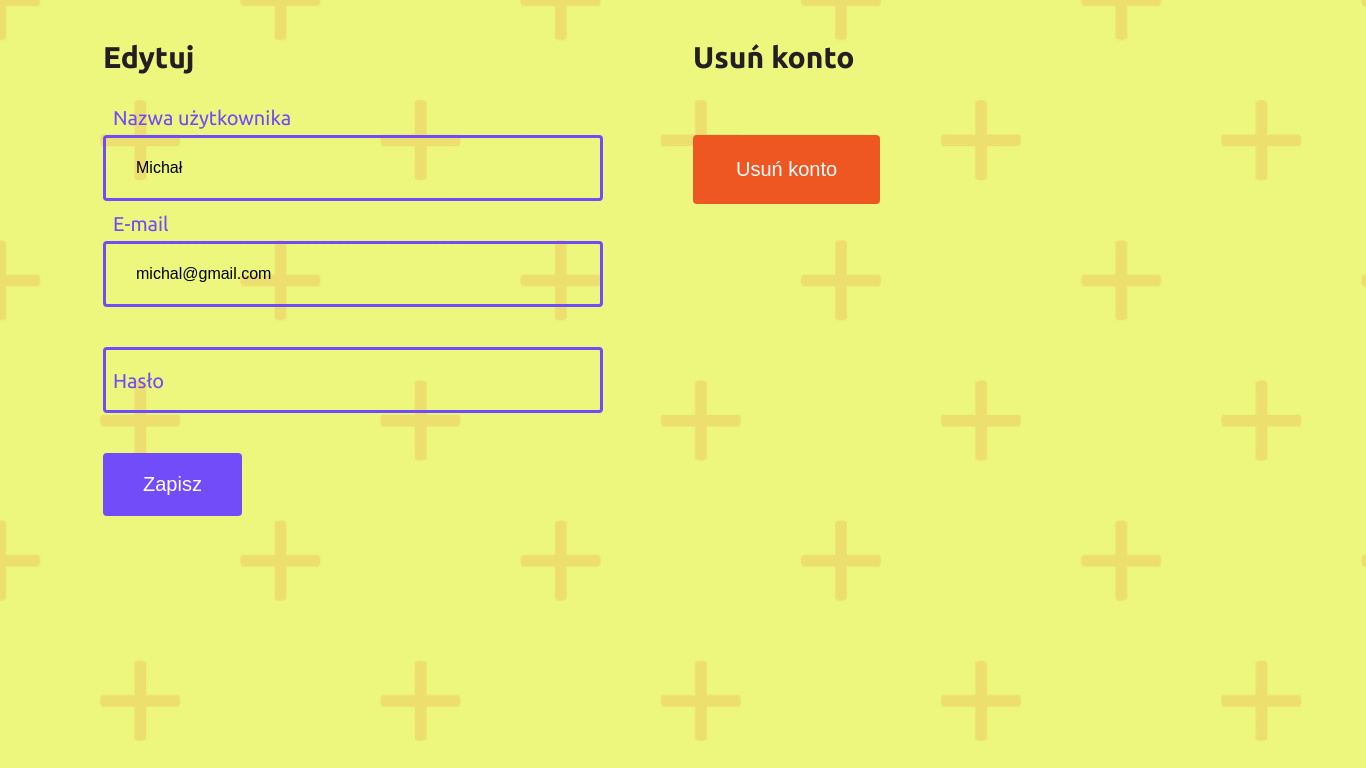
Test case: Settings page › should display errors if input values are either null or invalid
This screenshot has width=1366, height=768.
Replace the text in the field named "nickname" with "Mi" at point(353, 168), box x1=103 y1=135 x2=603 y2=201
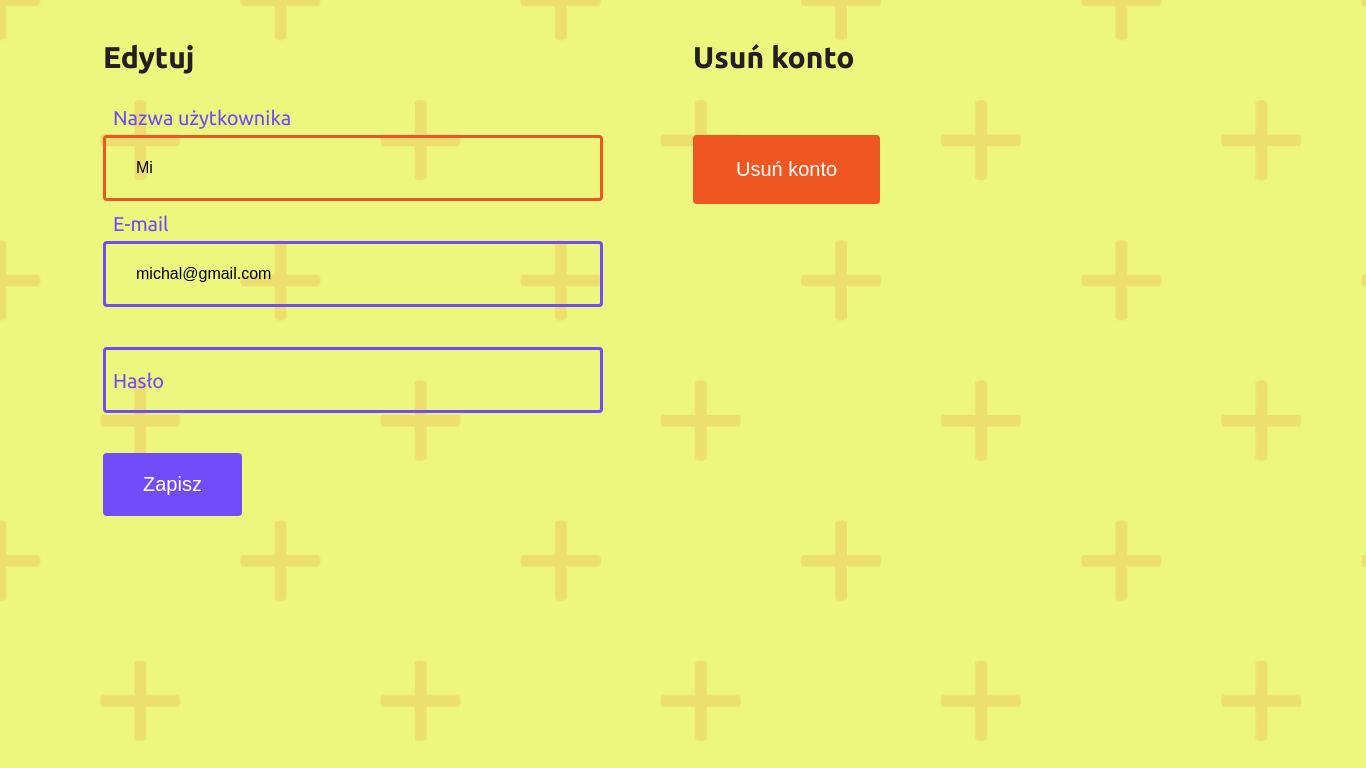
Replace the text in the field named "email" with "michal" at point(353, 274), box x1=103 y1=241 x2=603 y2=307
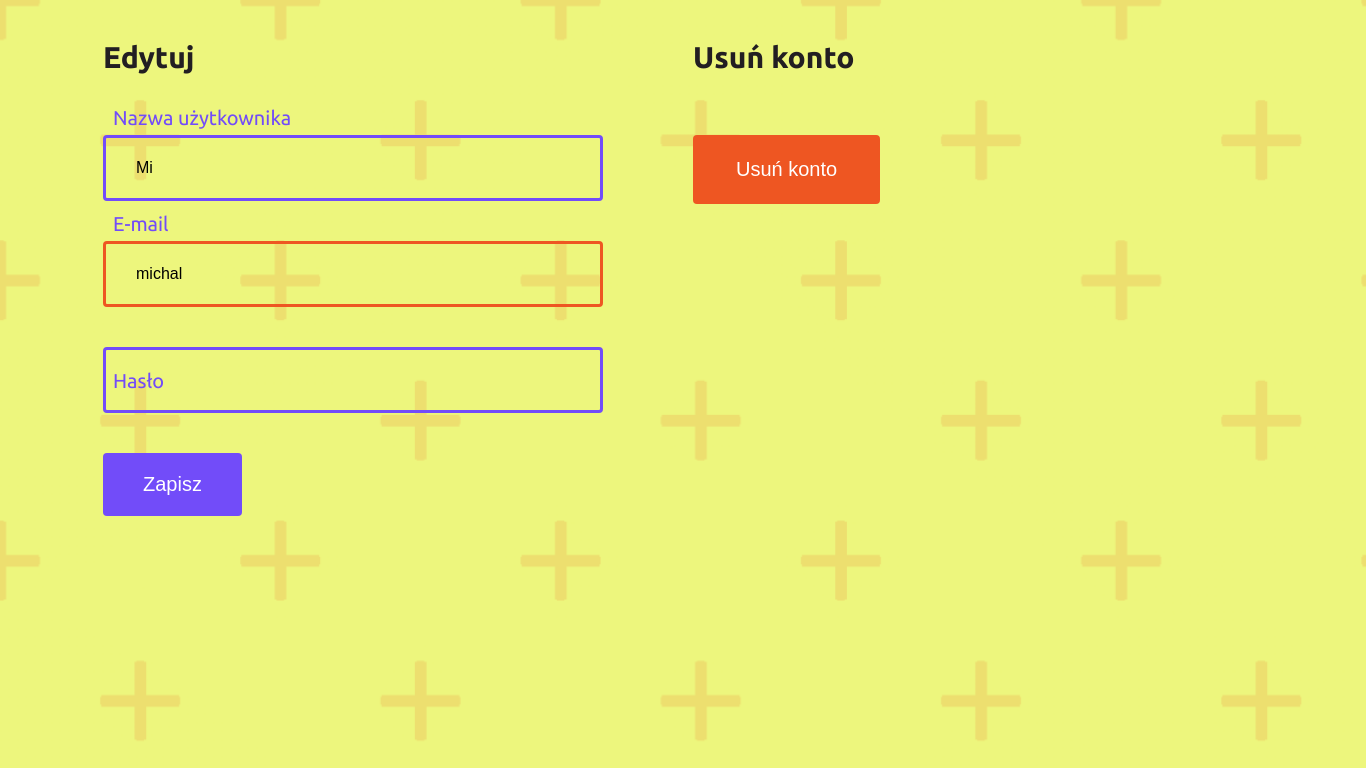
Type "s" into the password field named "password" at point(353, 380), box x1=103 y1=347 x2=603 y2=413
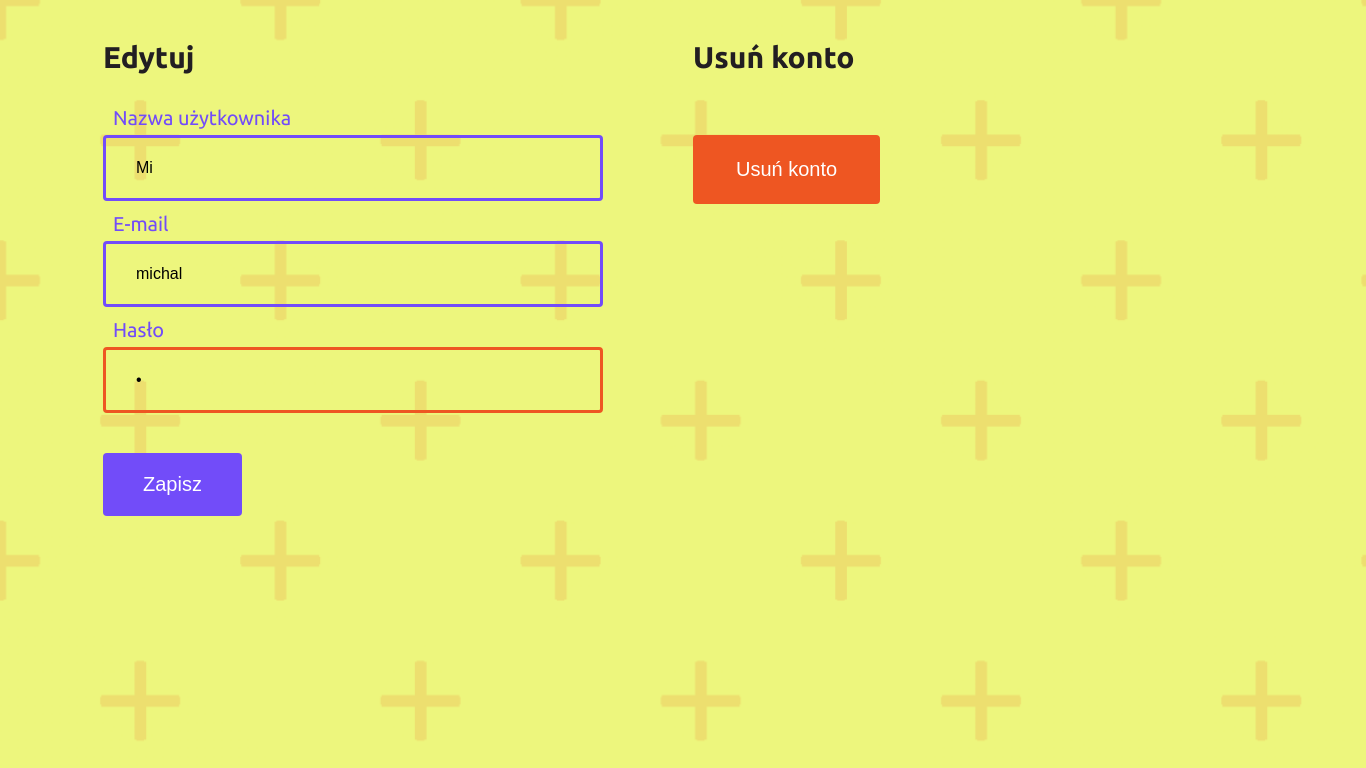
Click the submit button at point(173, 485), box x1=103 y1=453 x2=242 y2=516
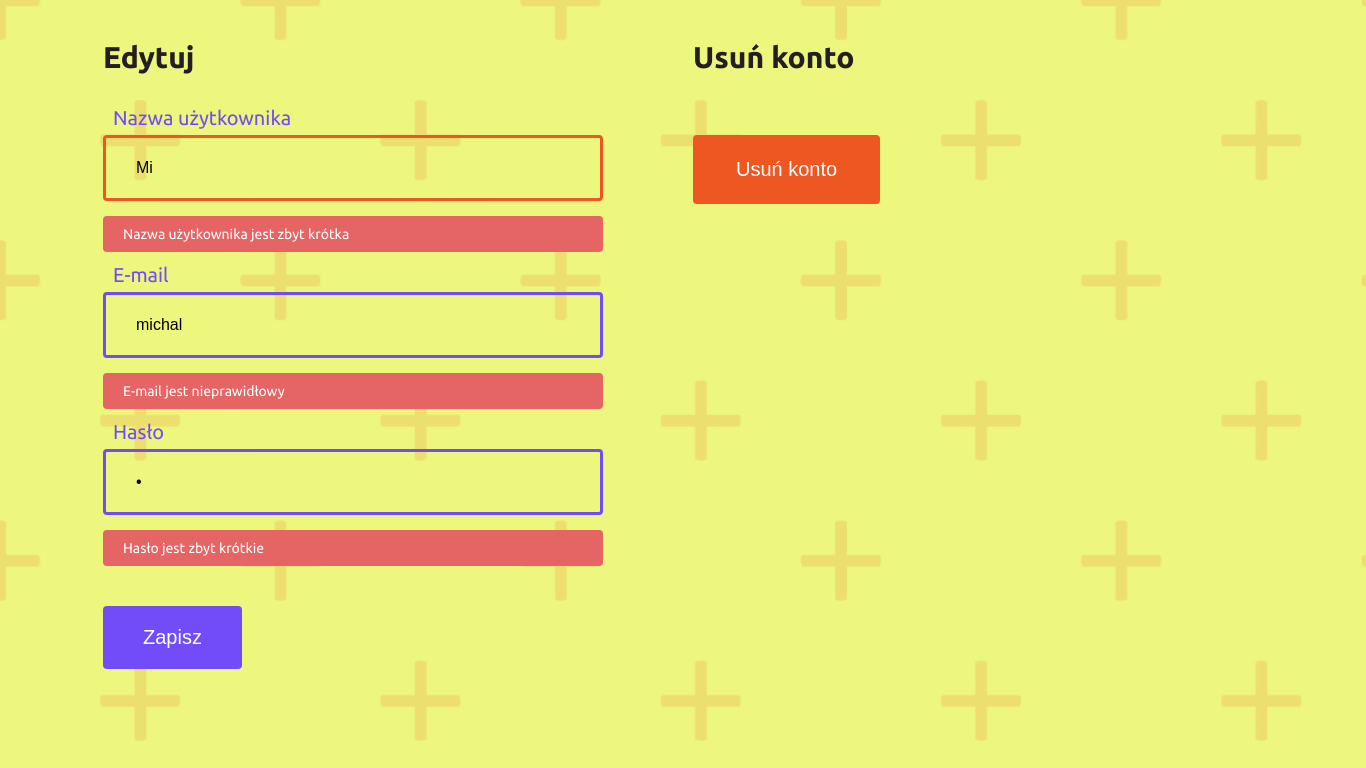
Now the text "Nazwa użytkownika jest zbyt krótka" is shown, box x1=103 y1=216 x2=603 y2=252
Now the text "E-mail jest nieprawidłowy" is shown, box x1=103 y1=373 x2=603 y2=409
Now the text "Hasło jest zbyt krótkie" is shown, box x1=103 y1=530 x2=603 y2=566
